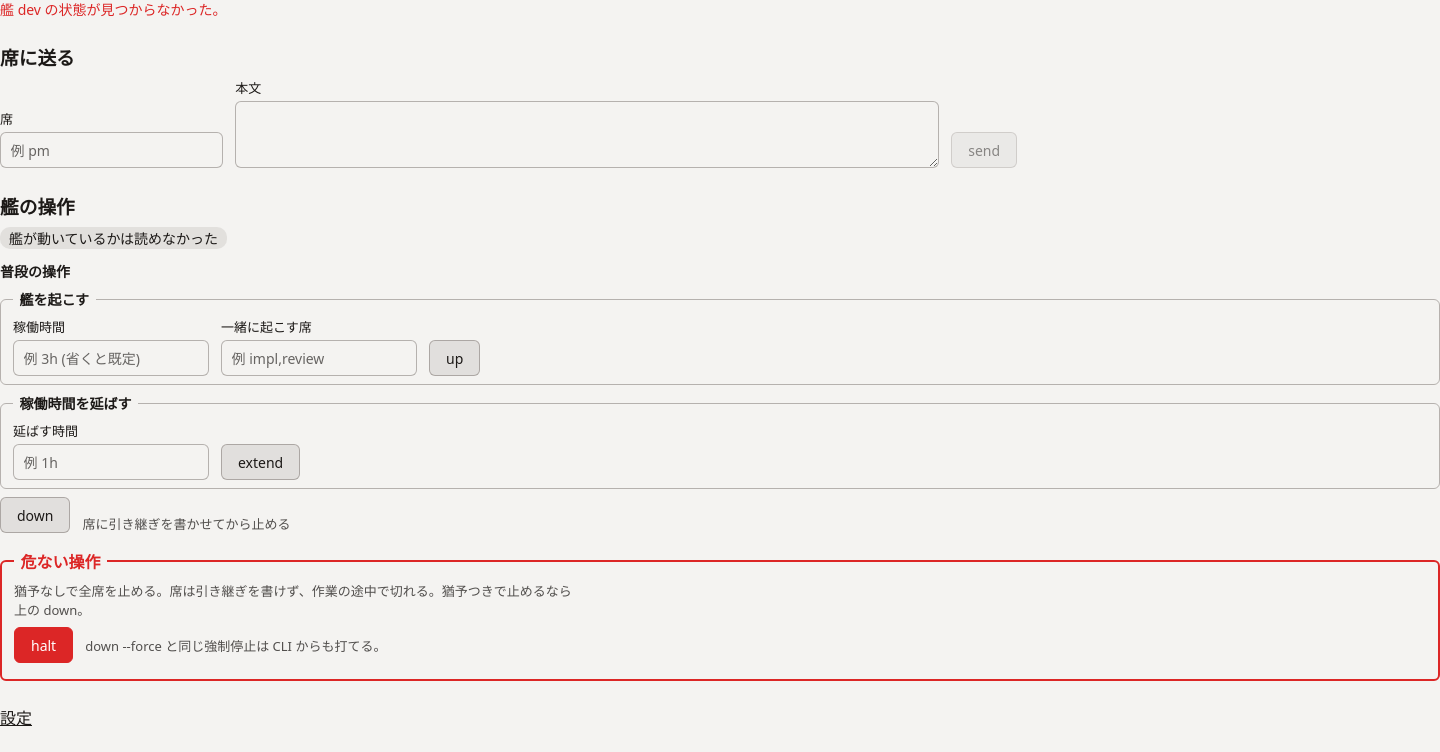
Test: 艦ページの操作 › down は確認画面を経てから POST する (alert は使わない)
The image size is (1440, 752).
What coordinates should you click on to do the following:
click the button "down"
I would click on:
 (35, 515)
Its box is left=0, top=497, right=70, bottom=533.
(page scrolled)
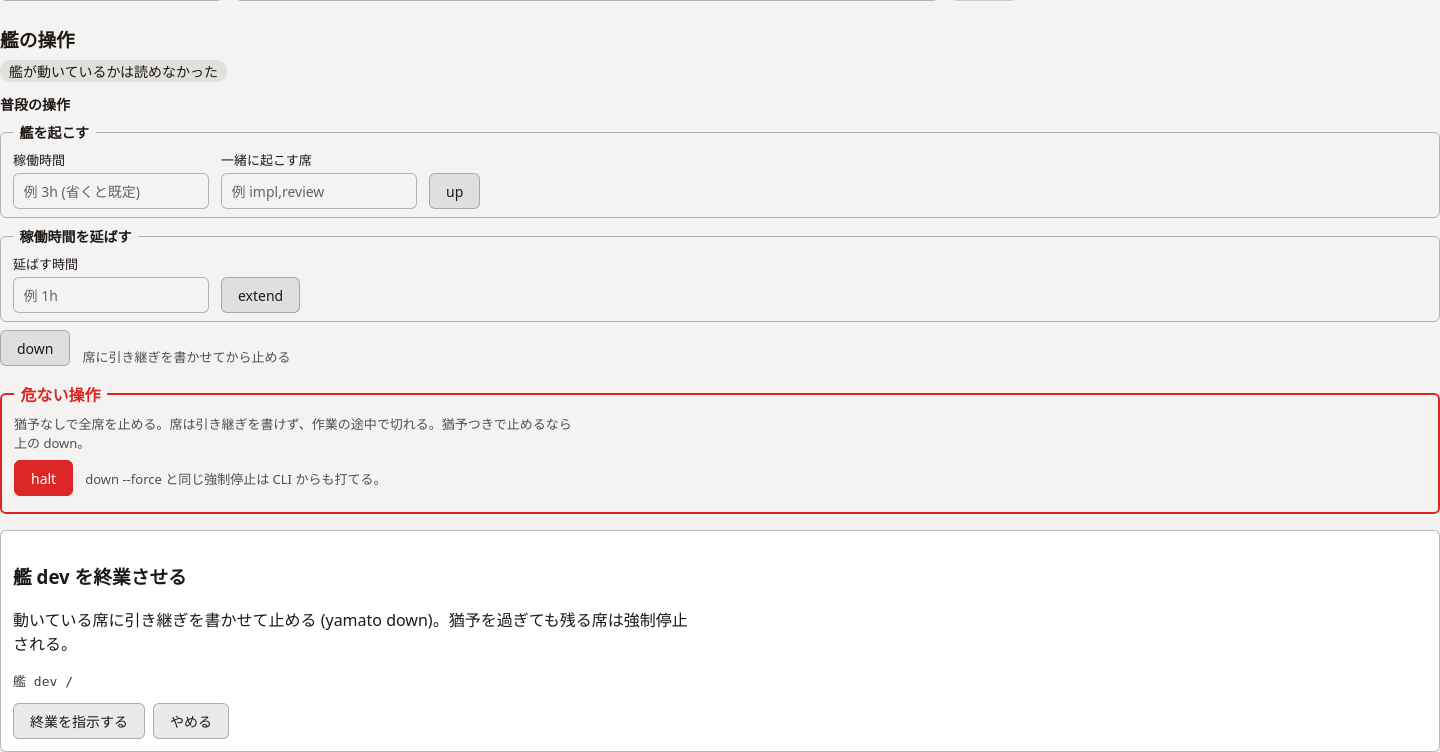
What coordinates should you click on to do the following:
click the button "終業を指示する"
I would click on:
 (79, 721)
Its box is left=13, top=703, right=145, bottom=739.
(page scrolled)
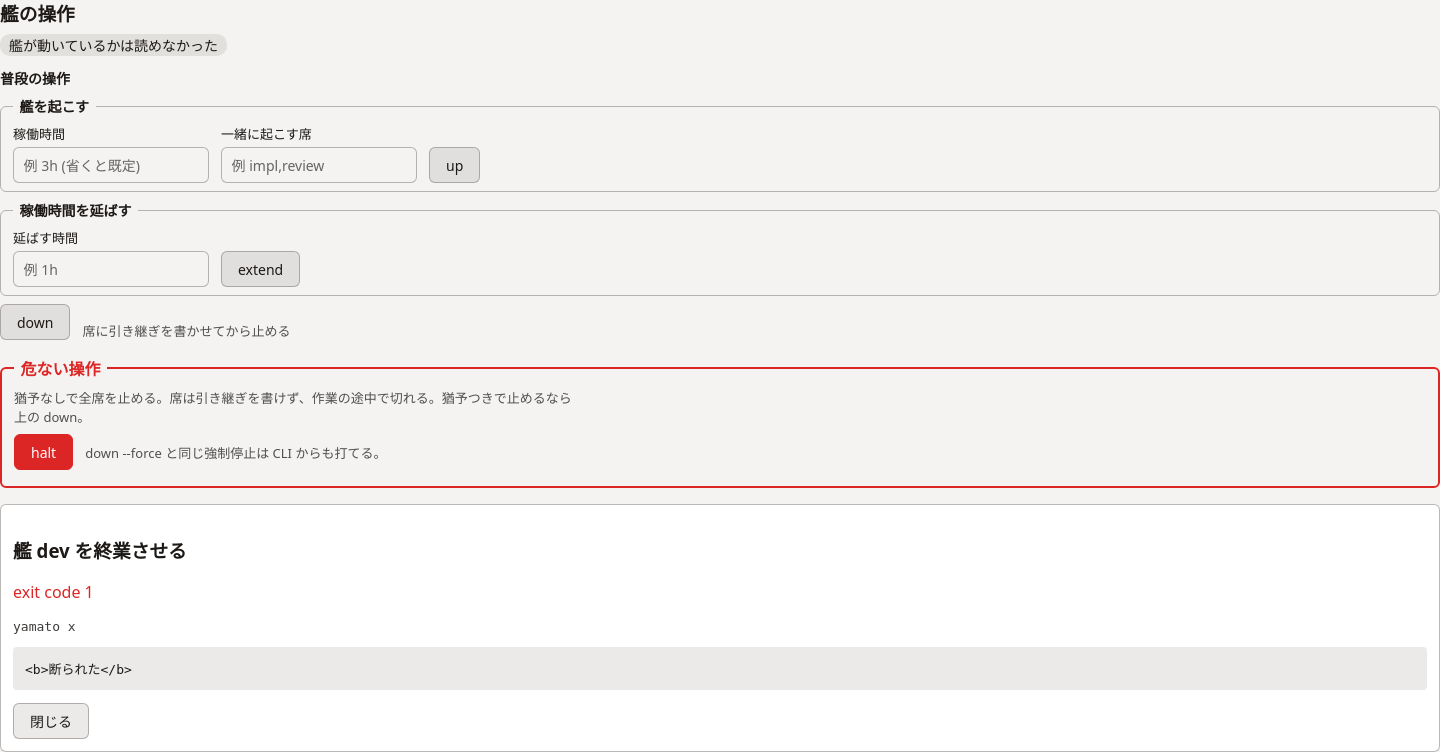
Now the text "exit code 1" is shown, box left=13, top=581, right=94, bottom=603
